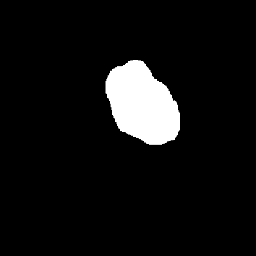mass: (109, 60, 181, 142)
